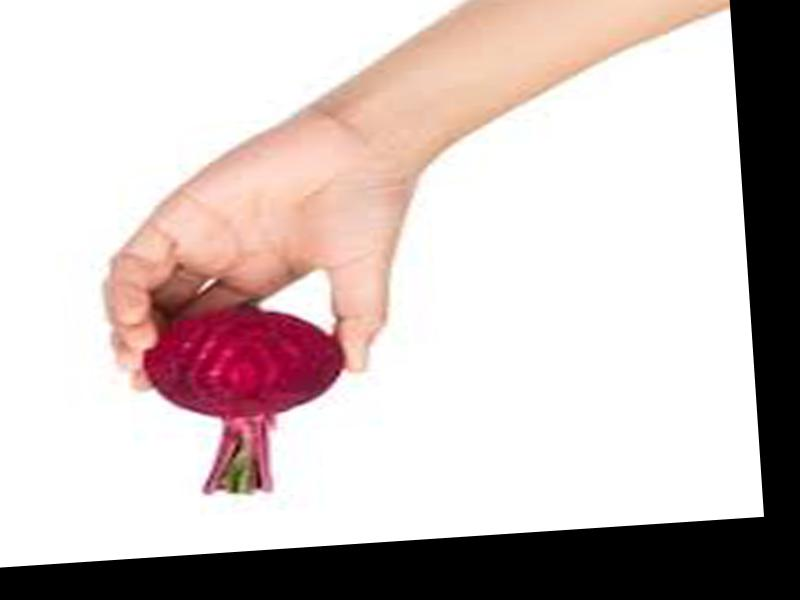Beet: (136, 305, 350, 501)
